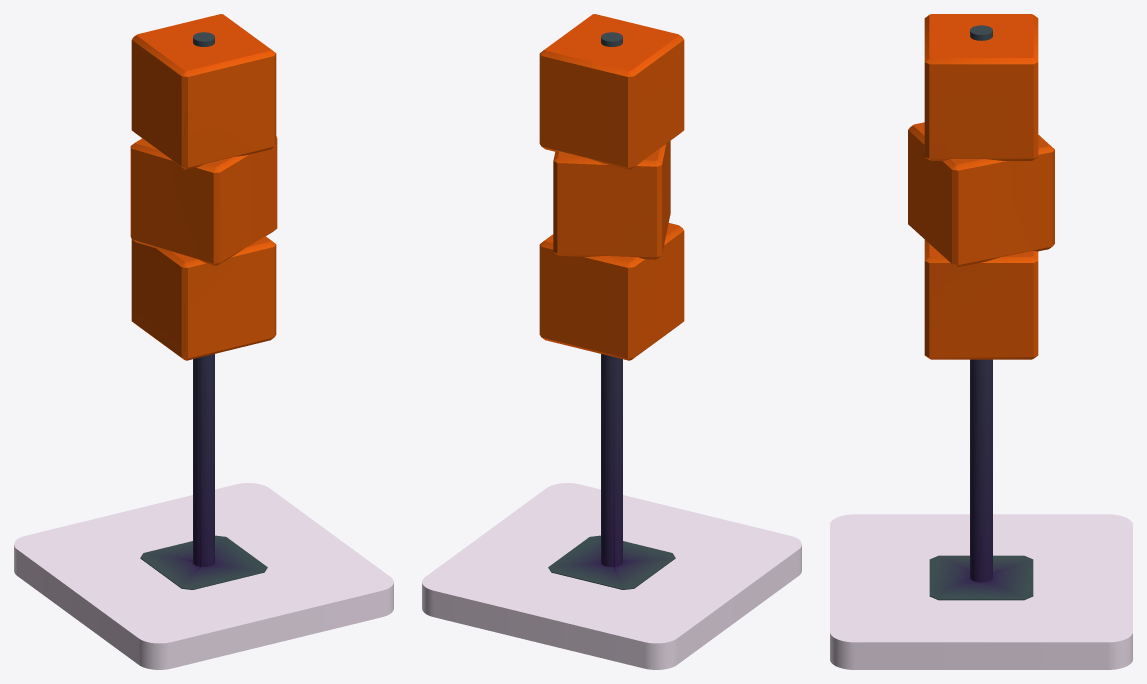
3 views of the same model, side by side, from view 1: azimuth 30°, elevation 25°; view 2: azimuth 150°, elevation 25°; view 3: azimuth 270°, elevation 25° (orthographic). The views are drawn at different scales.
Parts seen in each view (by area): view 1: base, top_block, middle_block, bottom_block, post; view 2: base, top_block, bottom_block, middle_block, post; view 3: base, top_block, middle_block, bottom_block, post.
Part boxes in pixels (bbox=[...]): base: bbox=[14, 483, 393, 669]; top_block: bbox=[131, 14, 276, 169]; middle_block: bbox=[130, 136, 277, 265]; bottom_block: bbox=[131, 236, 276, 360]; post: bbox=[140, 32, 267, 589]; base: bbox=[422, 483, 801, 669]; top_block: bbox=[539, 14, 684, 169]; bottom_block: bbox=[539, 223, 684, 360]; middle_block: bbox=[553, 141, 670, 259]; post: bbox=[548, 32, 675, 589]; base: bbox=[830, 514, 1132, 669]; top_block: bbox=[924, 14, 1038, 160]; middle_block: bbox=[908, 122, 1054, 266]; bottom_block: bbox=[924, 239, 1038, 359]; post: bbox=[929, 25, 1033, 600].
Size of the model in its own units: 0.7154 by 1.5 by 0.7154.
